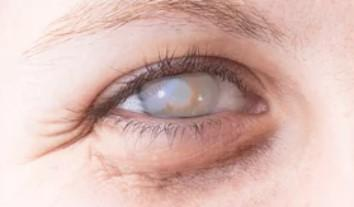eye: (141, 73, 220, 118)
